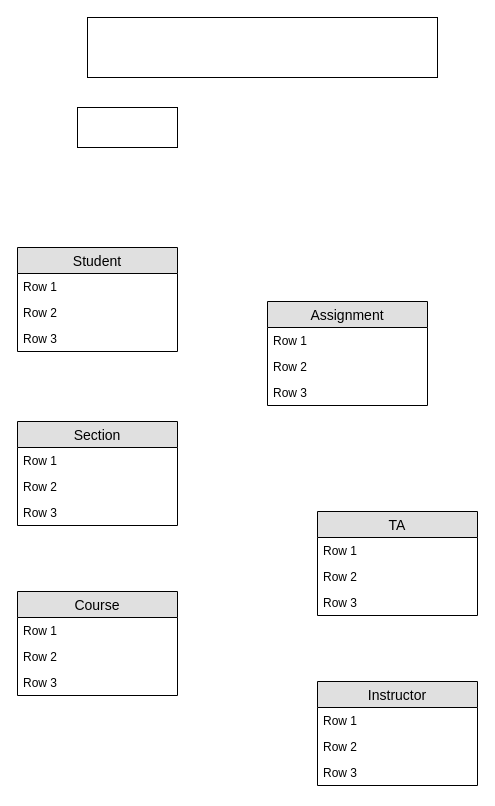
Image size: 495x806. Some labels were removed from this diagram. The centre of each missing label's shape, as x and y in pixels:
Description: (x=127, y=127)
ER Diagram: (x=262, y=47)
